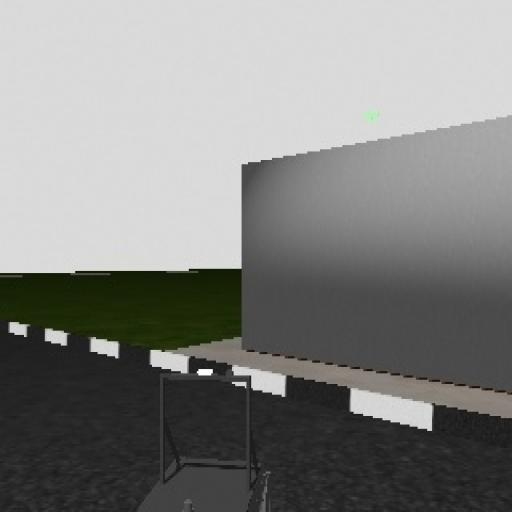huskya200: (118, 358, 290, 512)
